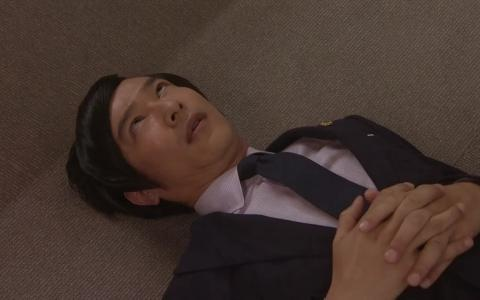falling: (58, 50, 475, 300)
